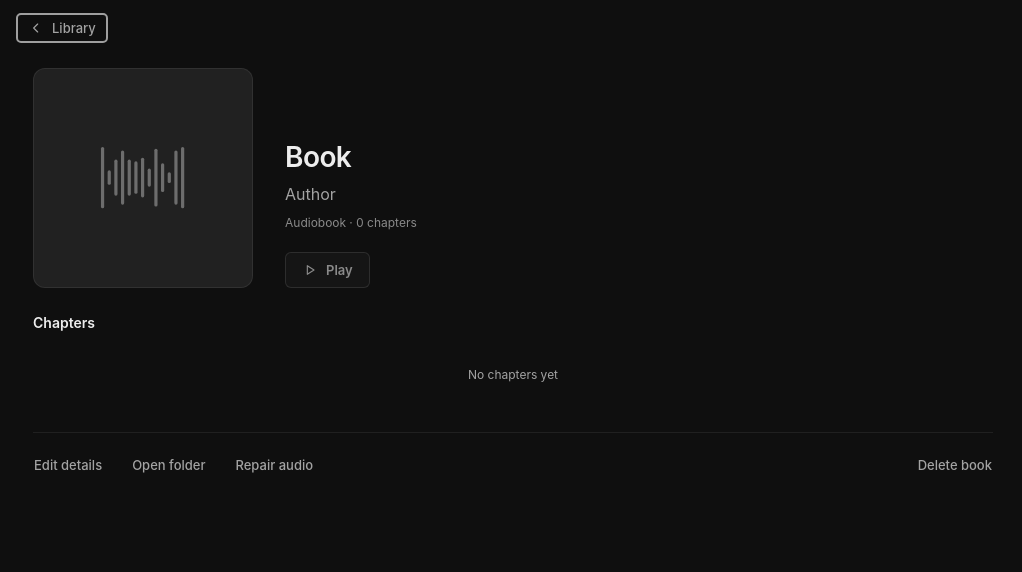
Test: LibraryPanel › requires an inline confirmation before deleting the selected book
The width and height of the screenshot is (1022, 572).
Later steps or results of the test are not shown.
Click the button with id "library-delete-btn": (955, 465) [905,449,1005,481]
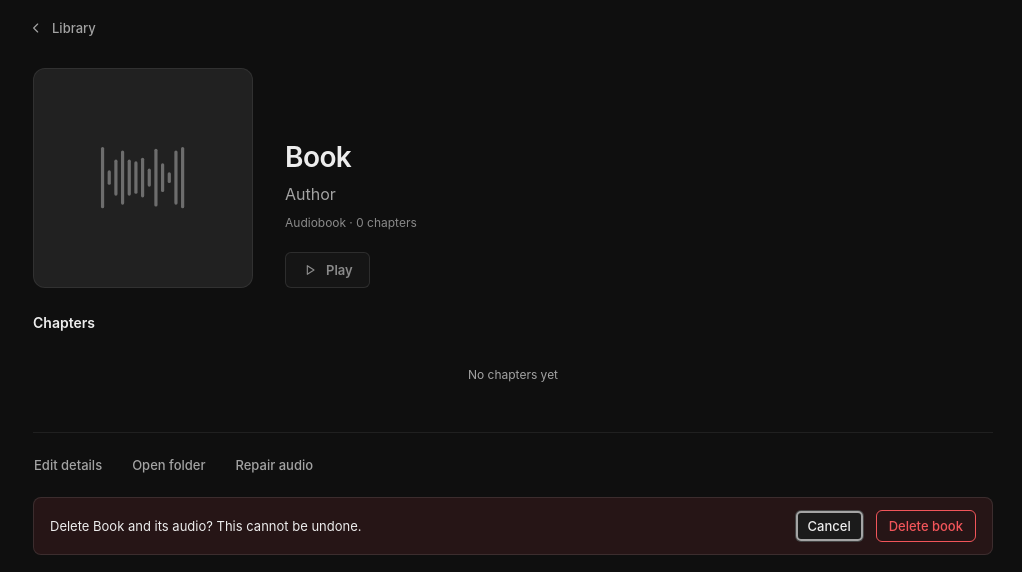
Expected: the button with id "library-delete-cancel-btn" is shown
Expected: the button with id "library-delete-confirm-btn" reads "Delete book", [876,510,976,542]
Expected: the message with class "library-delete-confirmation" shows "cannot be undone", [124,518,362,534]
Click the button with id "library-delete-cancel-btn": (829, 526) [794,510,864,542]
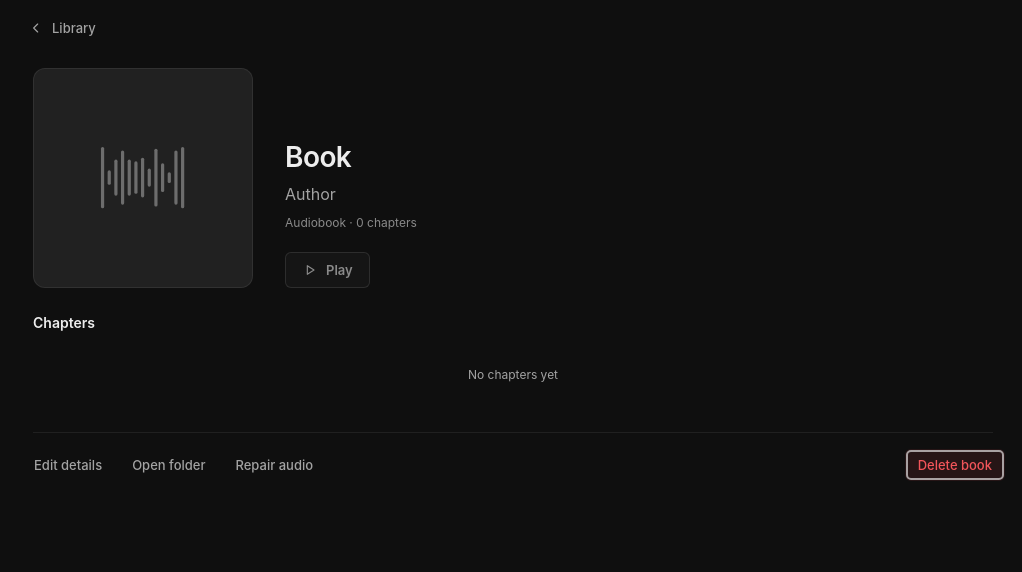
Expected: the button with id "library-delete-confirm-btn" is gone
